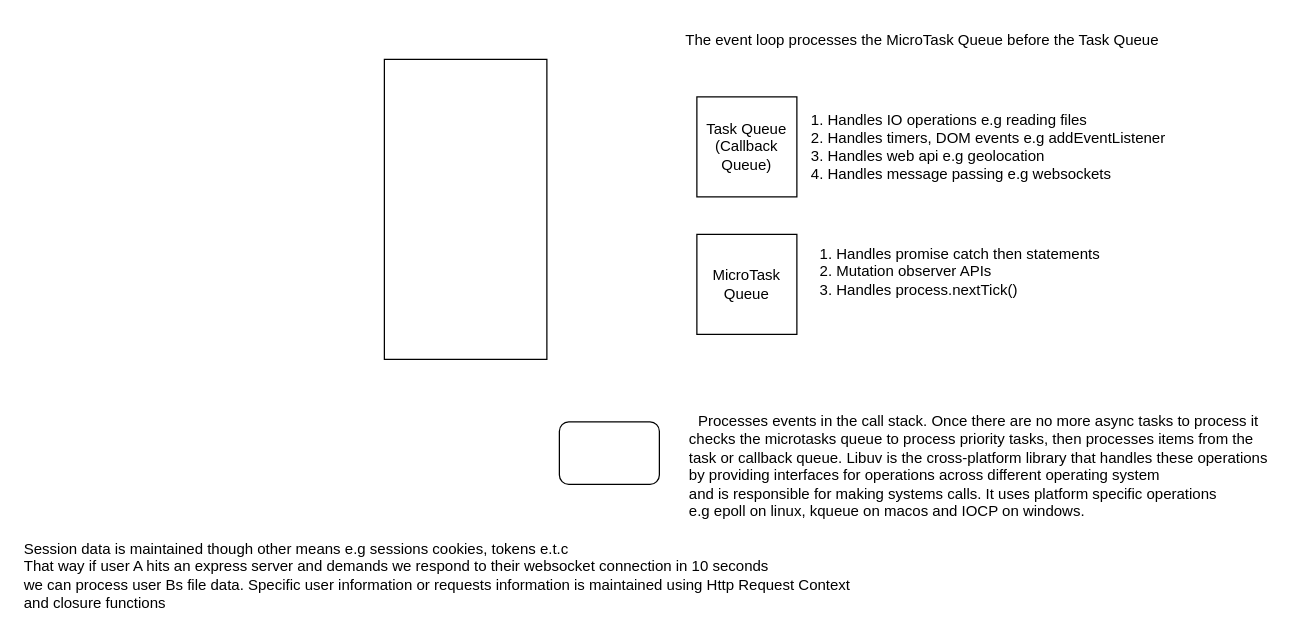
Some shapes in this 1305 by 640 pixel diagram are drawn without their labels. Each missing label, with the centre of its shape:
Call Stack this runs synchronous tasks: (465,208)
Event Loop: (608,452)
